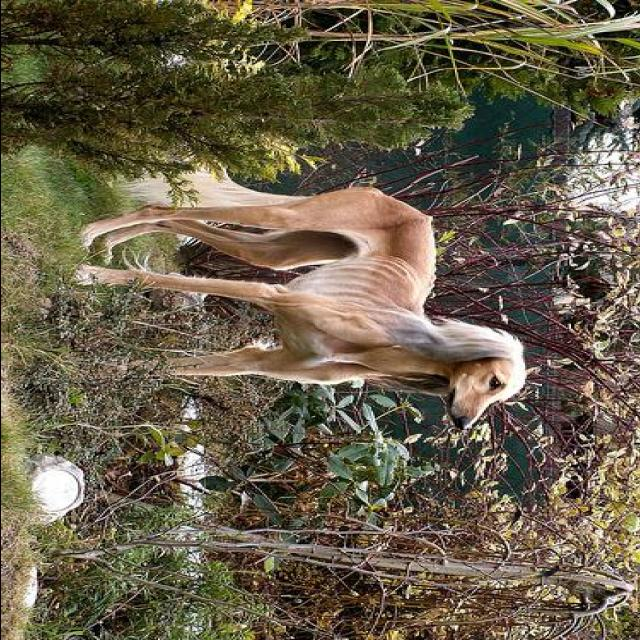saluki: (77, 178, 529, 434)
